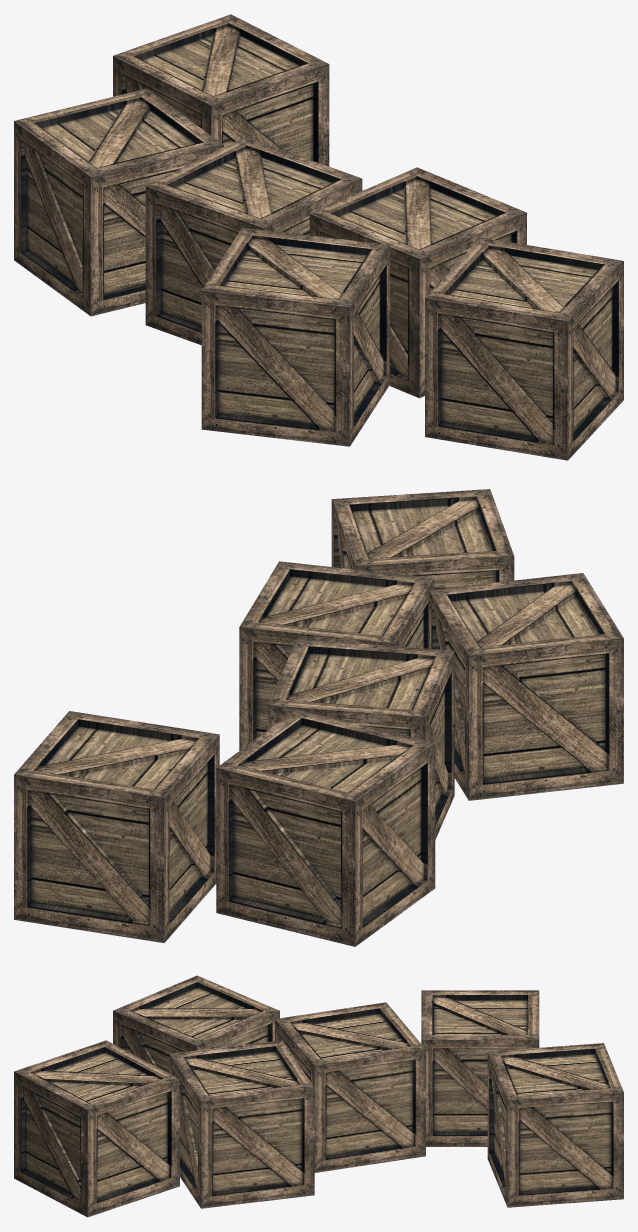
The model's file is Crates2.gltf.
The picture shows the model from 3 angles, top to bottom: view 1: azimuth 30°, elevation 25°; view 2: azimuth 150°, elevation 25°; view 3: azimuth 270°, elevation 25°; orthographic projection. The views are drawn at different scales.
Parts seen in each view (by area): view 1: Object_2; view 2: Object_2; view 3: Object_2.
Part boxes in pixels (left/top/right/bottom): Object_2: left=14, top=14, right=623, bottom=460; Object_2: left=14, top=489, right=623, bottom=946; Object_2: left=14, top=975, right=623, bottom=1217.
Bounding box in the file's own units: 3.92 × 1.53 × 7.67.
Materials: 1 (1 with a texture image).
